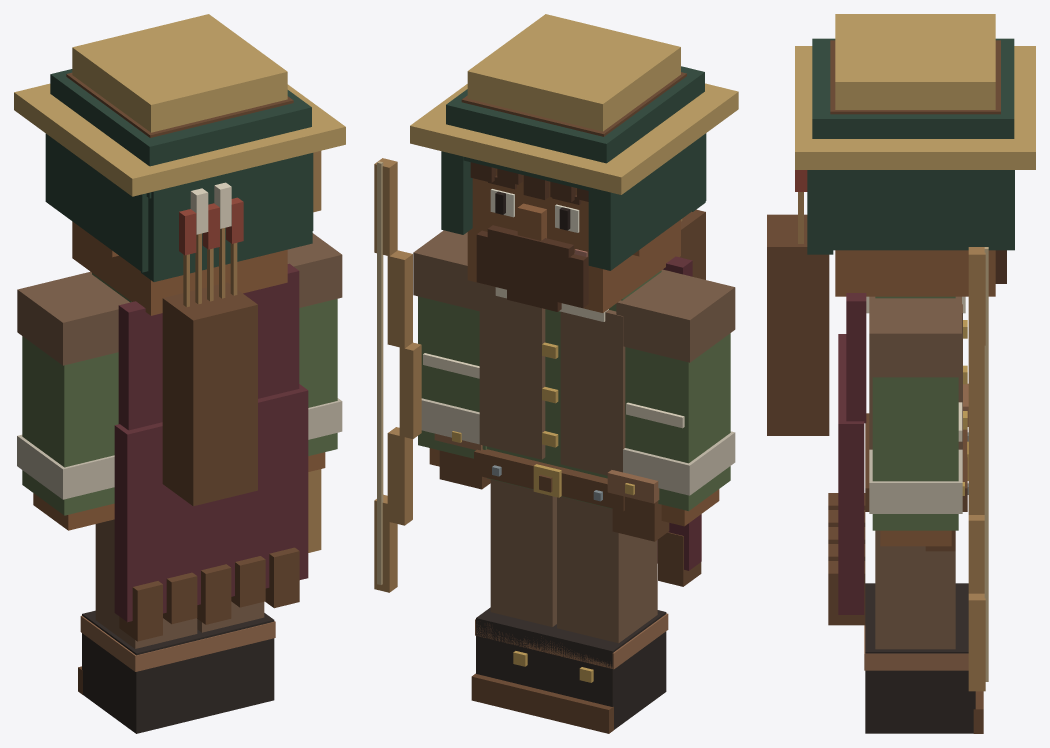
File: poacher.obj
3 renders of one model, left to right at view 1: azimuth 30°, elevation 25°; view 2: azimuth 150°, elevation 25°; view 3: azimuth 270°, elevation 25°, orthographic. The views are drawn at different scales.
Visible parts, largest first — view 1: equipment_back, head, right_arm, right_leg, left_arm, left_leg, equipment_left; view 2: head, body, right_arm, right_leg, left_leg, equipment_left, left_arm, equipment_back; view 3: head, equipment_back, left_arm, left_leg, equipment_left, body, right_leg.
Part boxes in pixels (x1,y1,x2,y2): equipment_back: [114, 182, 308, 641]; head: [14, 14, 345, 315]; right_arm: [17, 271, 129, 530]; right_leg: [78, 519, 208, 733]; left_arm: [287, 233, 342, 471]; left_leg: [197, 601, 275, 717]; equipment_left: [308, 151, 321, 552]; head: [410, 14, 738, 312]; body: [434, 270, 669, 541]; right_arm: [616, 269, 735, 526]; right_leg: [537, 496, 668, 733]; left_leg: [471, 479, 556, 717]; equipment_left: [374, 158, 421, 592]; left_arm: [413, 230, 486, 466]; equipment_back: [657, 209, 705, 586]; head: [795, 14, 1035, 296]; equipment_back: [767, 170, 866, 625]; left_arm: [869, 296, 962, 546]; left_leg: [864, 530, 983, 733]; equipment_left: [968, 247, 988, 691]; body: [865, 296, 968, 551]; right_leg: [865, 583, 968, 617].
Bounding box in the file's own units: 1.12 × 2.24 × 0.8375.
